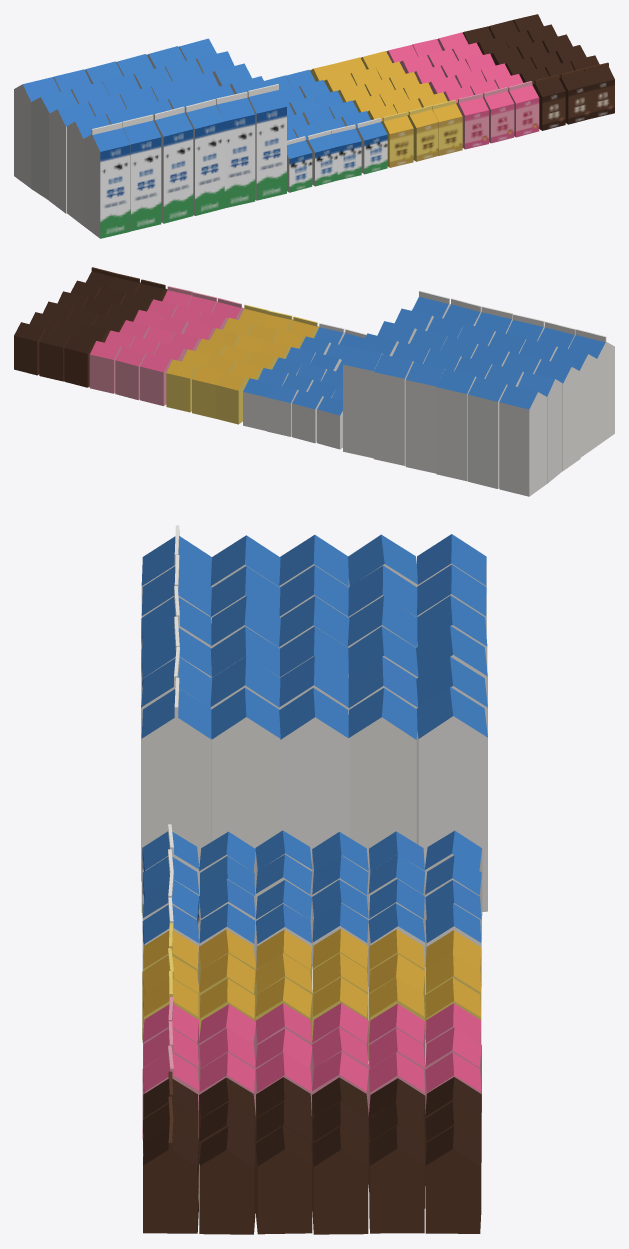
The model's file is SC_Prod_Row_Milk.gltf.
3 views of the same model, one above another, from view 1: azimuth 30°, elevation 25°; view 2: azimuth 150°, elevation 25°; view 3: azimuth 270°, elevation 25° (orthographic). The views are drawn at different scales.
Visible parts, largest first — view 1: SC_Prod_Row_Milk; view 2: SC_Prod_Row_Milk; view 3: SC_Prod_Row_Milk.
Part boxes in pixels (left/top/right/bottom): SC_Prod_Row_Milk: left=14, top=14, right=614, bottom=238; SC_Prod_Row_Milk: left=14, top=267, right=614, bottom=496; SC_Prod_Row_Milk: left=141, top=525, right=487, bottom=1234.
Size of the model in its own units: 1.2 by 0.2285 by 0.349.
Materials: 2 (2 with a texture image).
